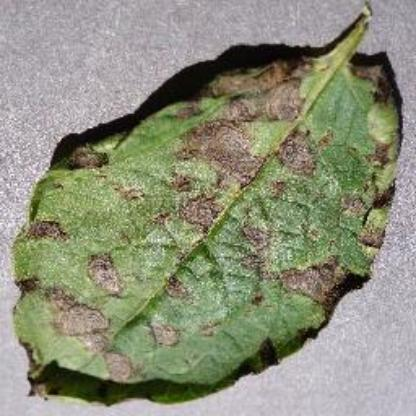Early-Blight: (6, 11, 412, 402)
